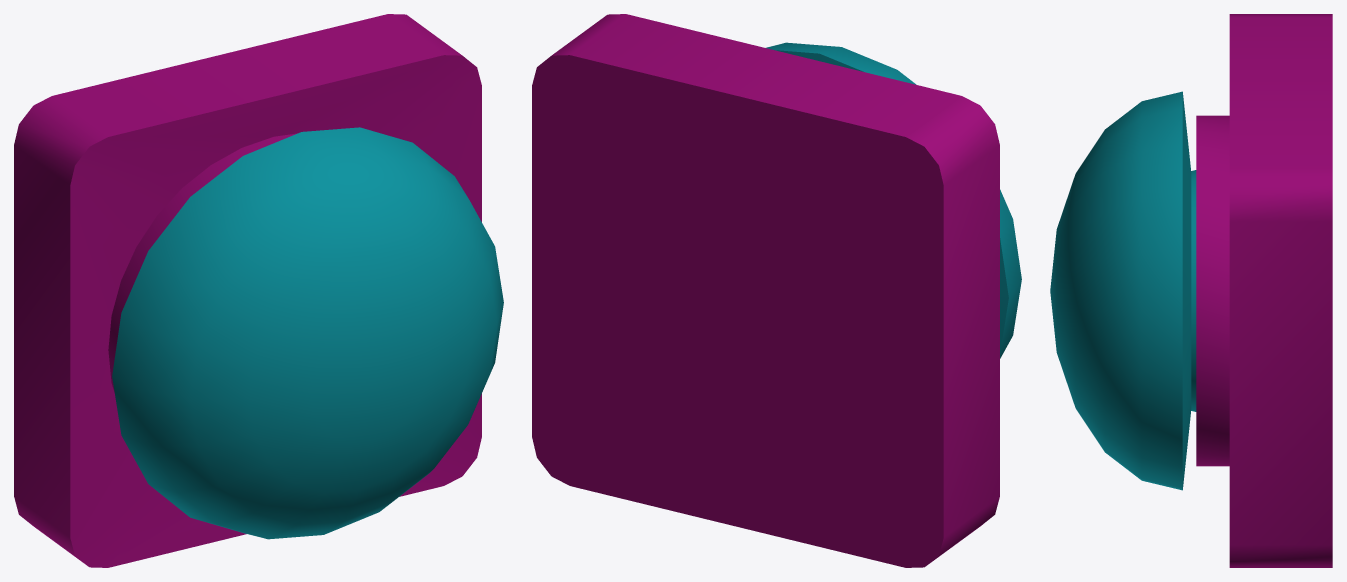
File: button.fbx
3 renders of one model, left to right at view 1: azimuth 30°, elevation 25°; view 2: azimuth 150°, elevation 25°; view 3: azimuth 270°, elevation 25°, orthographic. The views are drawn at different scales.
Parts seen in each view (by area): view 1: Esfera, Cubo; view 2: Cubo, Esfera; view 3: Cubo, Esfera.
Part boxes in pixels (left/top/right/bottom): Esfera: left=112, top=127, right=503, bottom=539; Cubo: left=14, top=14, right=481, bottom=567; Cubo: left=532, top=14, right=999, bottom=567; Esfera: left=766, top=42, right=1021, bottom=358; Cubo: left=1196, top=14, right=1332, bottom=567; Esfera: left=1050, top=91, right=1196, bottom=490.
Bounding box in the file's own units: 217 × 217 × 141.
